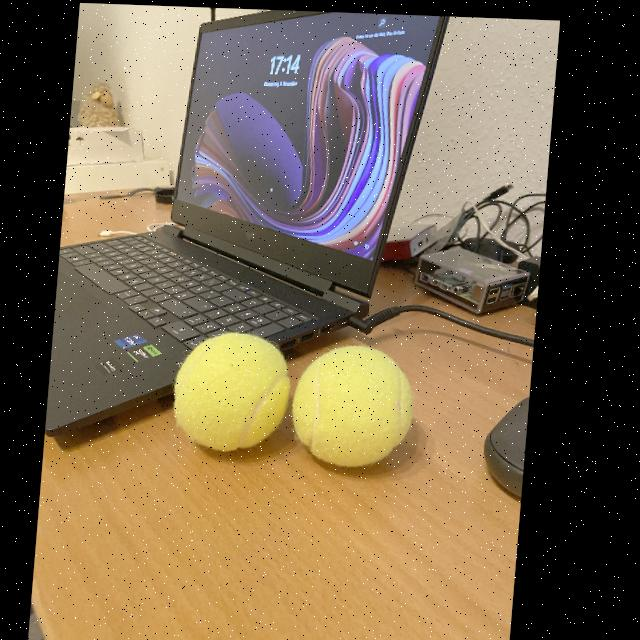Tennisball: (292, 346, 413, 467), (174, 333, 290, 451)
